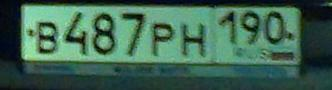license-plateSW: (16, 4, 303, 63)
